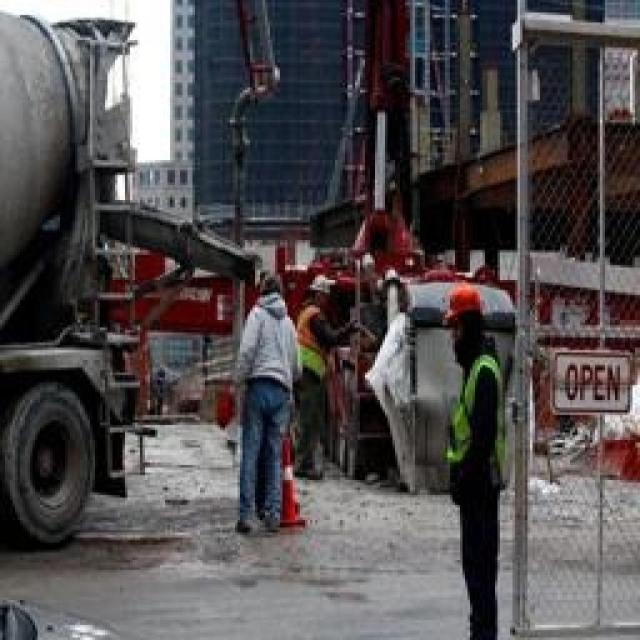Helmet: (238, 298, 310, 410), (432, 278, 491, 349), (254, 253, 288, 313), (301, 266, 347, 306)
Safety Vest: (440, 344, 525, 506), (291, 294, 350, 430)
